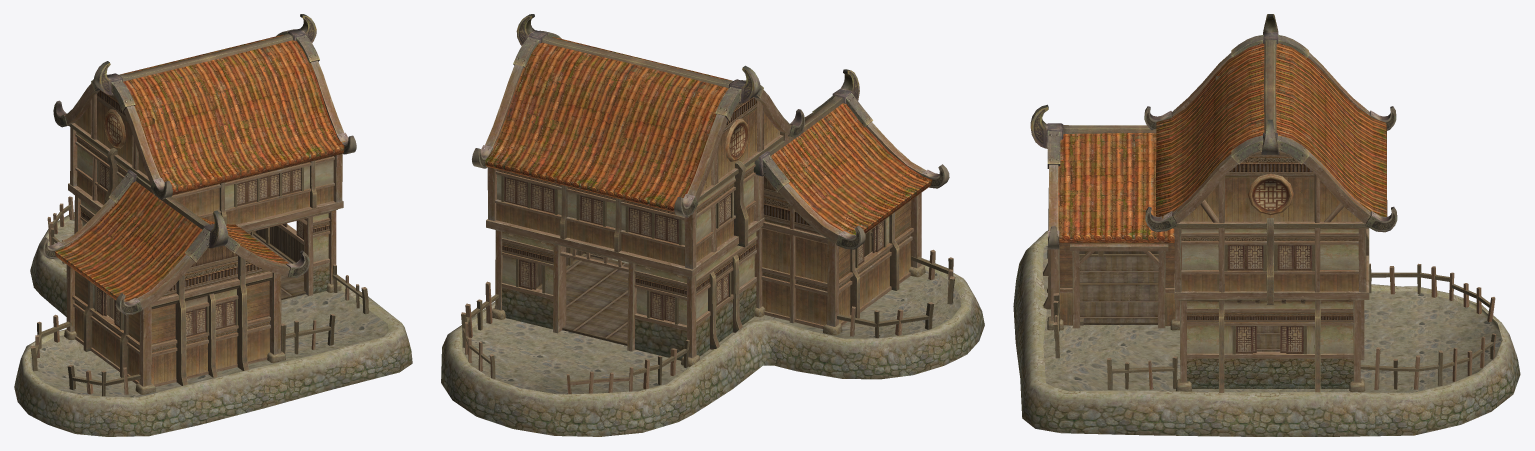
File: Building_002_04.fbx
3 renders of one model, left to right at view 1: azimuth 30°, elevation 25°; view 2: azimuth 150°, elevation 25°; view 3: azimuth 270°, elevation 25°, orthographic. The views are drawn at different scales.
Visible parts, largest first — view 1: Building_002_04, Building_002_04_in; view 2: Building_002_04, Building_002_04_in; view 3: Building_002_04, Building_002_04_in.
Part boxes in pixels (box(x1,y1,x2,y2)): Building_002_04: box(14, 14, 412, 436); Building_002_04_in: box(107, 118, 305, 319); Building_002_04: box(441, 14, 984, 436); Building_002_04_in: box(497, 127, 872, 345); Building_002_04: box(1013, 14, 1520, 436); Building_002_04_in: box(1069, 76, 1352, 351).
Bounding box in the file's own units: 2550 × 1871 × 2813.
Materials: 4 (4 with a texture image).
